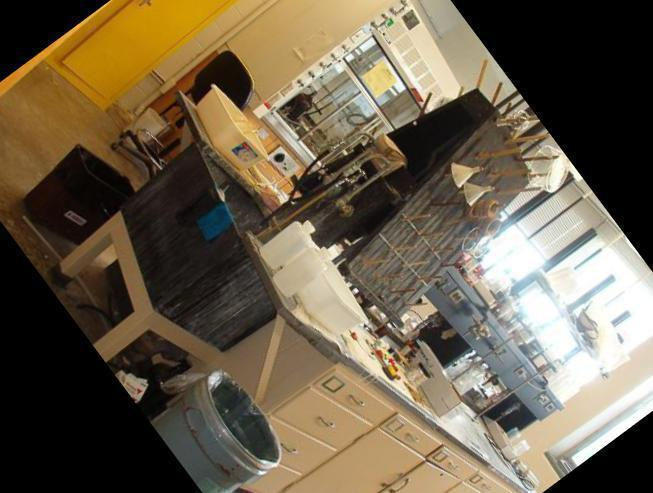Bote de Basura: (125, 365, 295, 493)
Lavaplatos: (37, 64, 426, 404)
